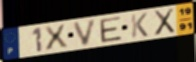1: (32, 26, 44, 52)
E: (98, 15, 124, 44)
K: (130, 12, 150, 39)
V: (71, 18, 99, 48)
X: (42, 23, 70, 52), (152, 7, 176, 37)
